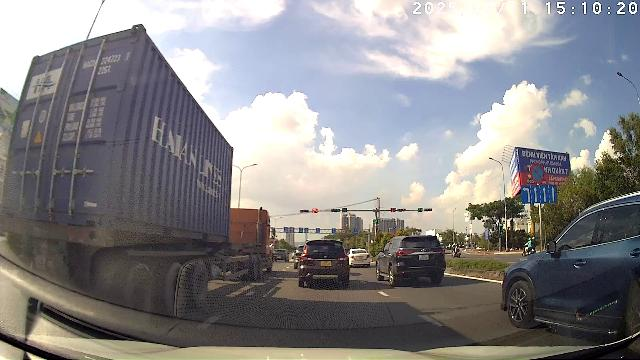131a-cam-do-xe: (530, 162, 546, 184)
